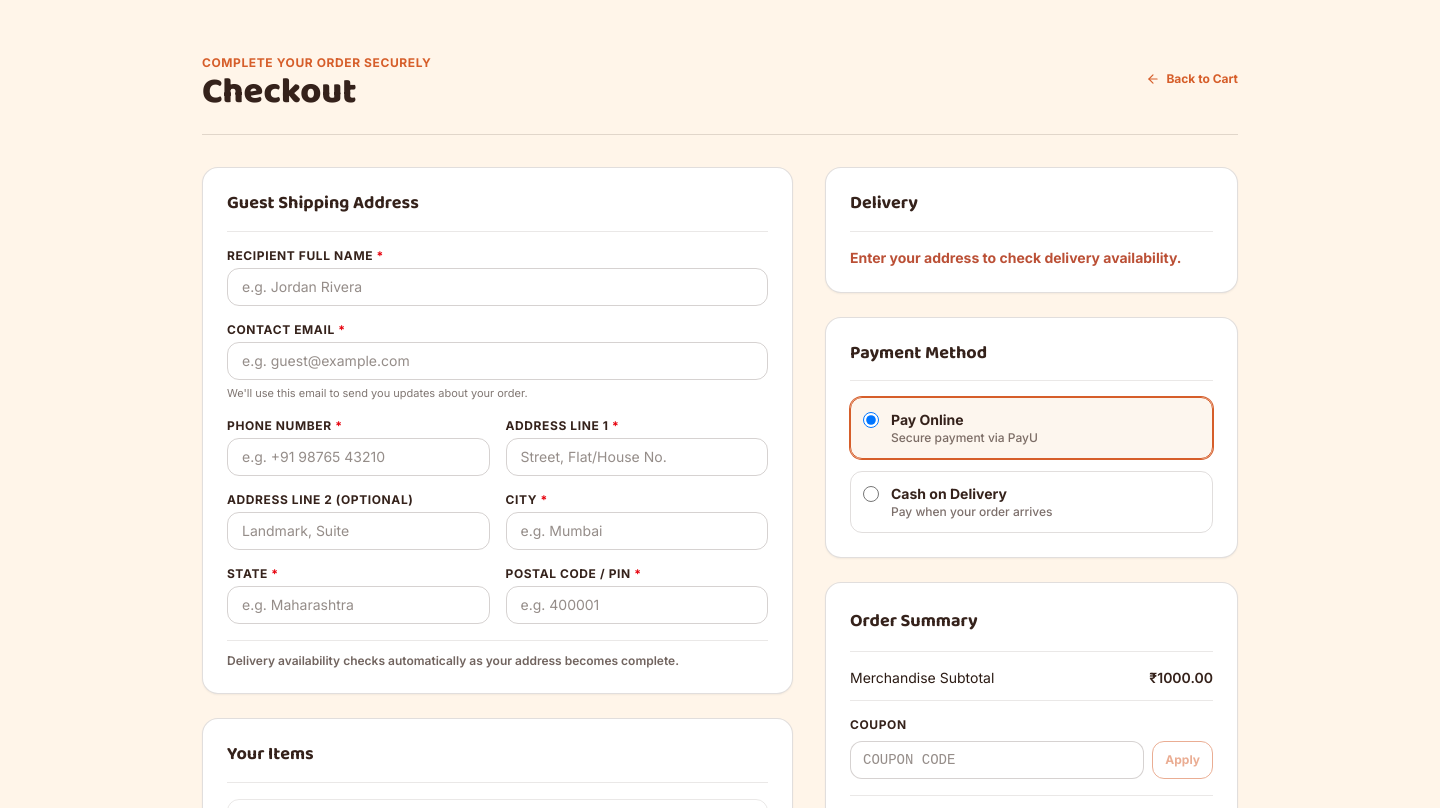
Test case: Checkout product payment-method availability › never shows a coupon saving CTA for a method the cart's products cannot use
Expected: the heading "Guest Shipping Address" is shown, [227,192,419,215]
Type "Guest User" into the field labelled "Recipient Full Name *" at (498, 287), box [227,268,768,306]
Type "+91 98765 00000" into the field labelled "Phone Number *" at (358, 457), box [227,438,490,476]
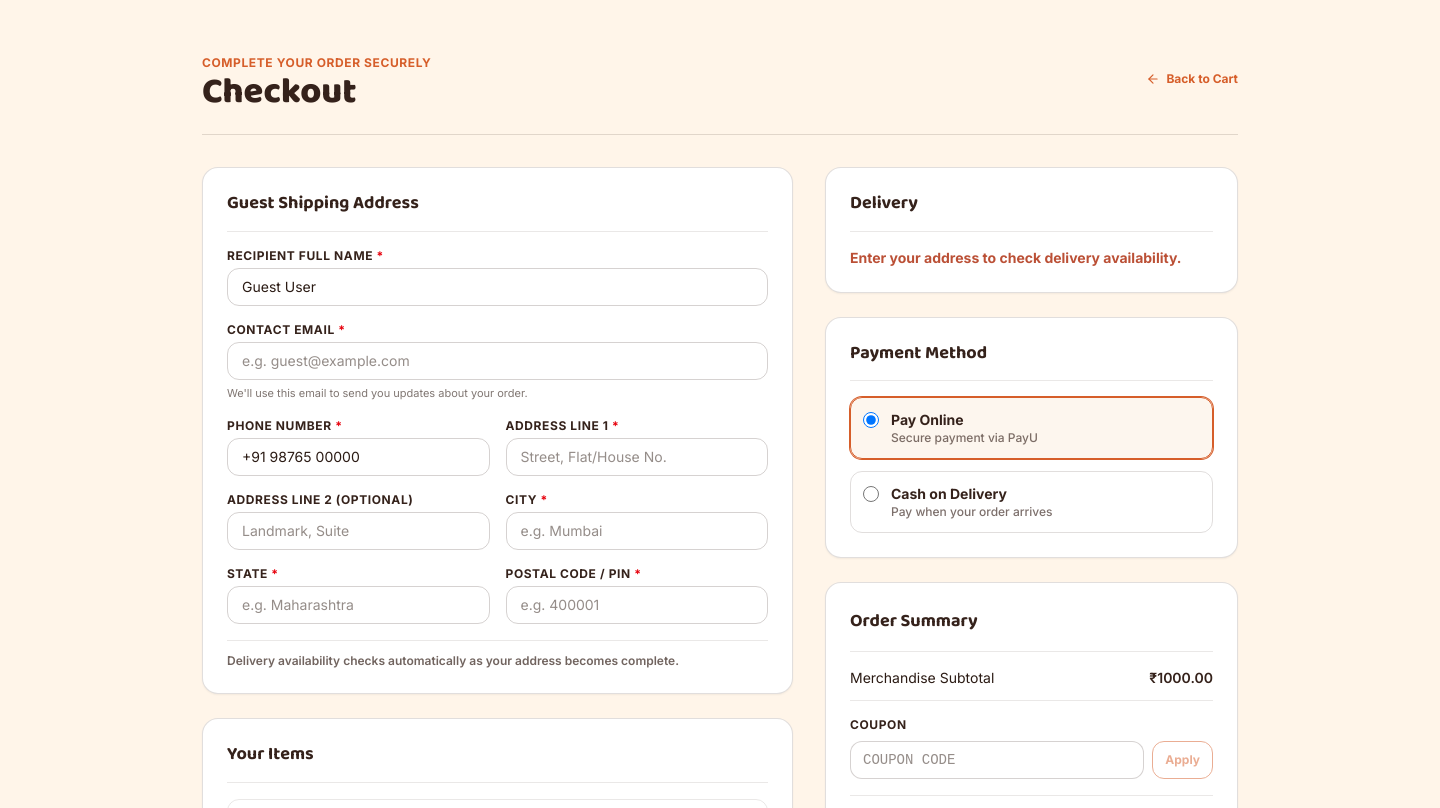
Type "123 Street" into the field labelled "Address Line 1 *" at (637, 457), box [506,438,768,476]
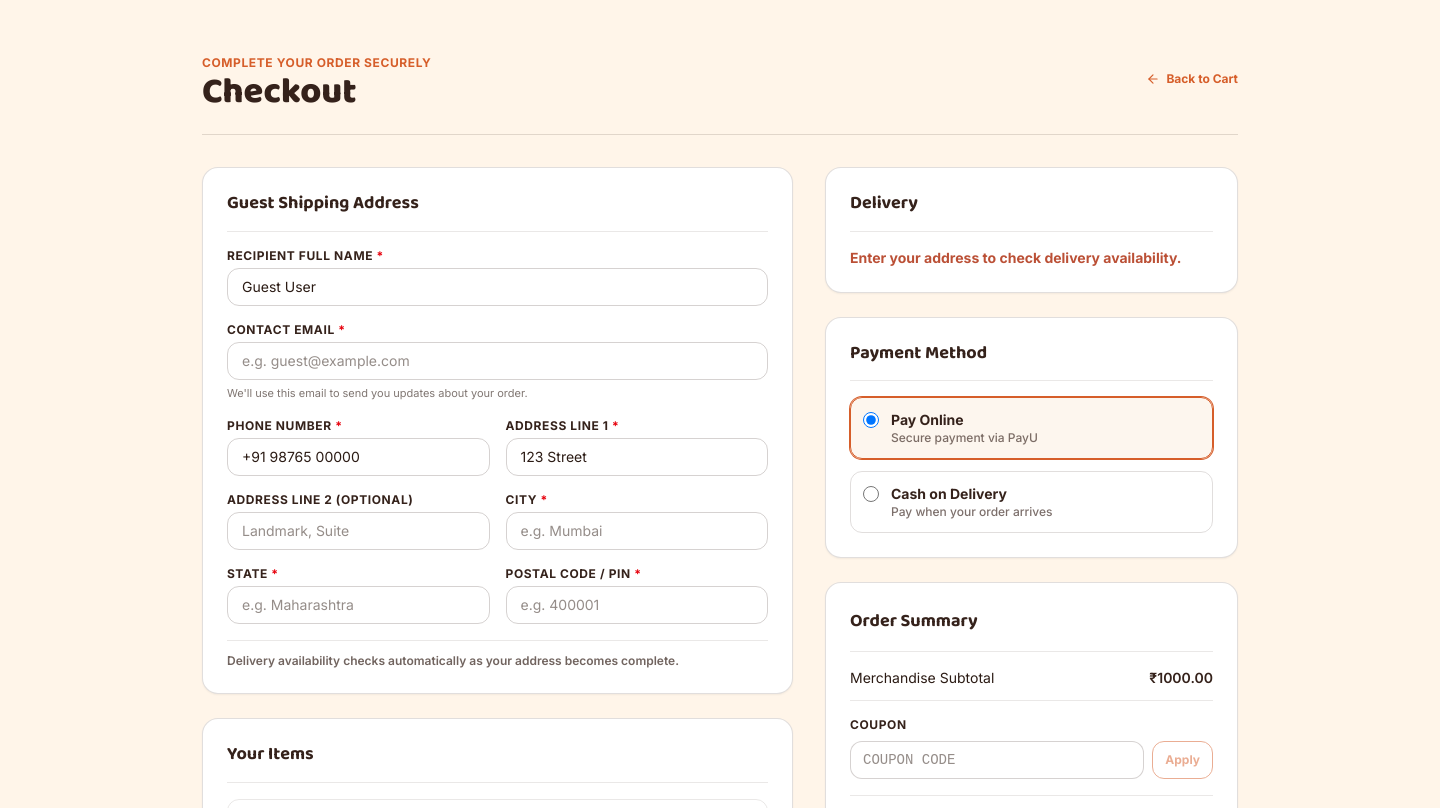
Type "Mumbai" into the field labelled "City *" at (637, 531), box [506,512,768,550]
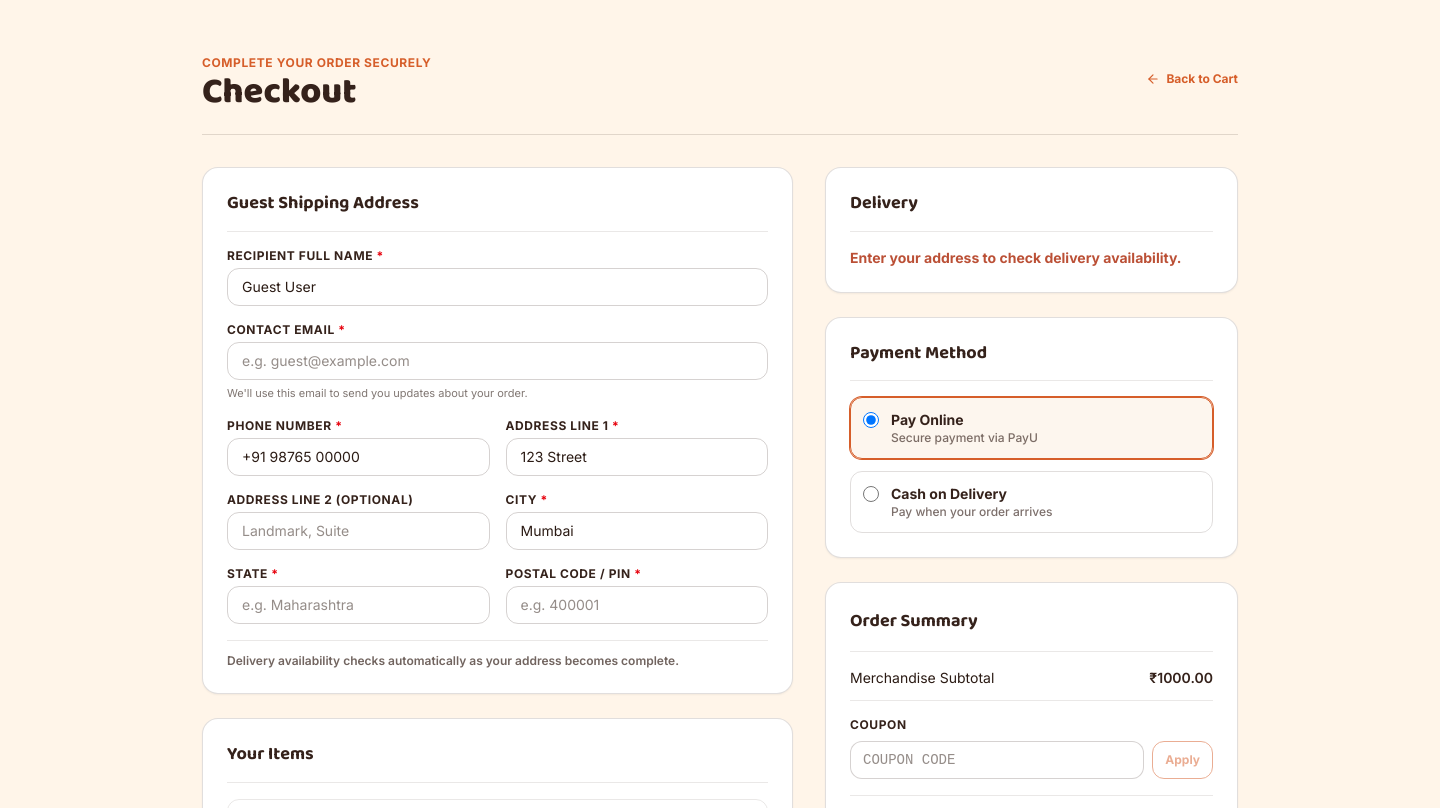
Type "Maharashtra" into the field labelled "State *" at (358, 605), box [227,586,490,624]
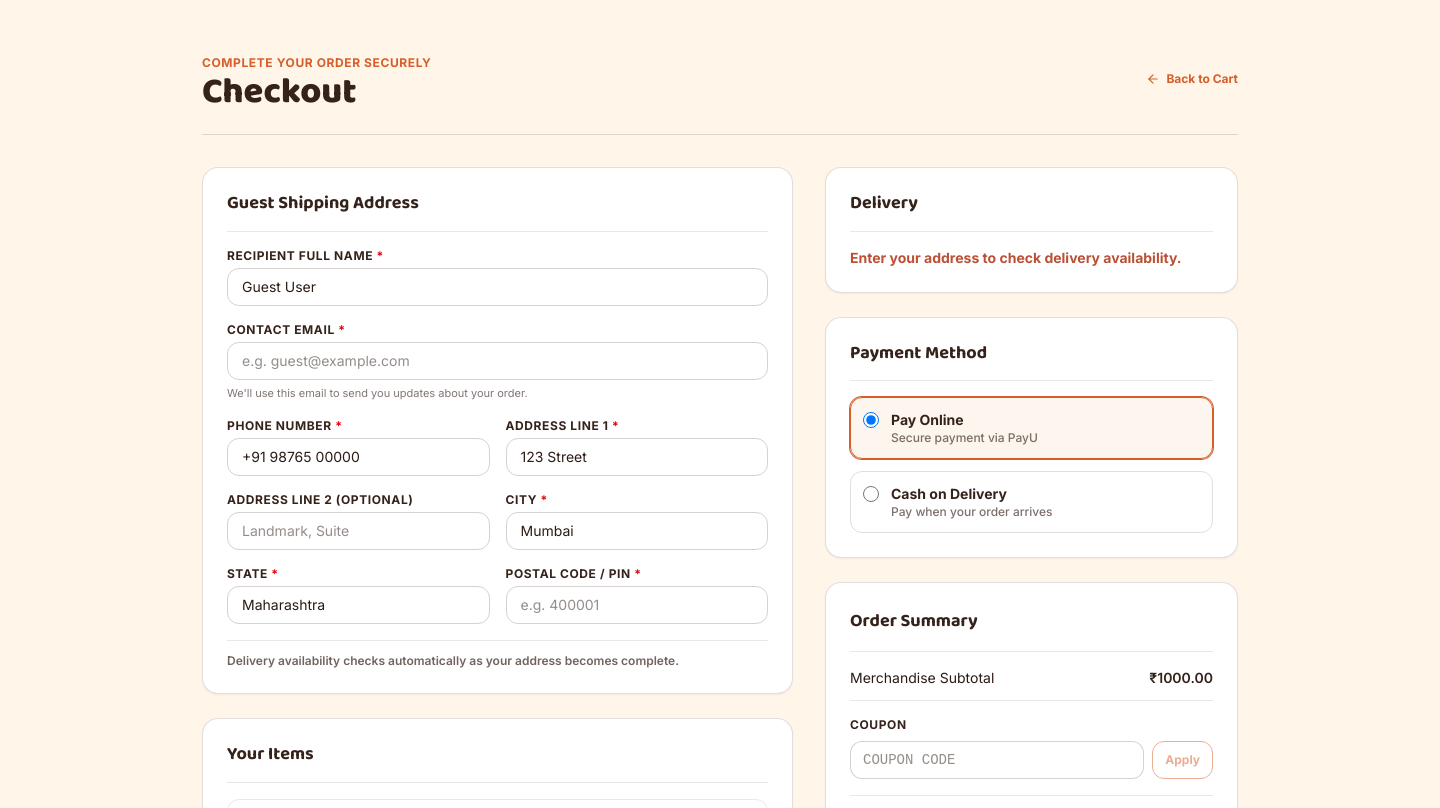
Type "400001" into the field labelled "Postal Code / PIN *" at (637, 605), box [506,586,768,624]
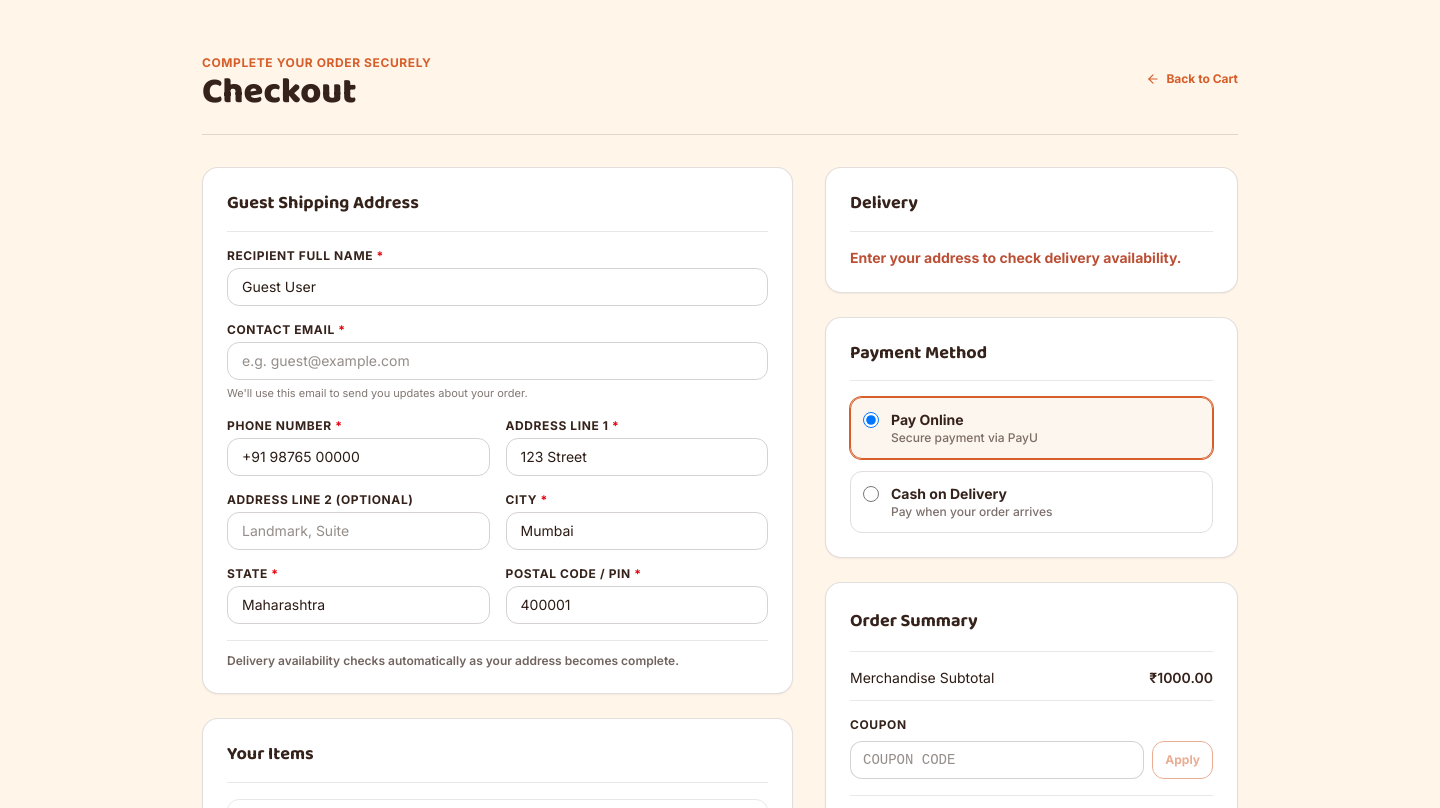
Type "guest@example.com" into the field labelled "Contact Email *" at (498, 361), box [227,342,768,380]
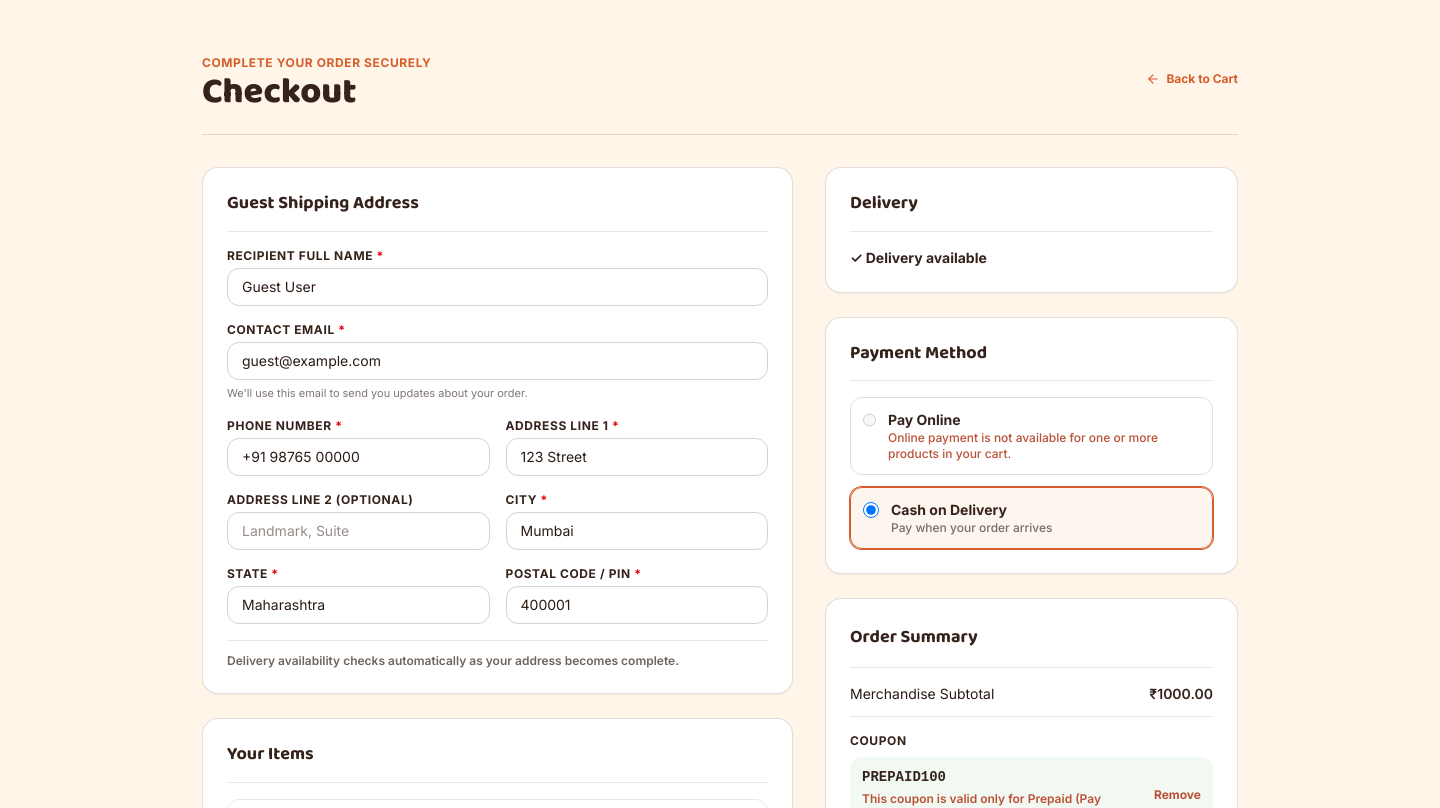
Result: the radio button labelled "Cash on Delivery Pay when your order arrives" is checked at [863,502,879,518]
